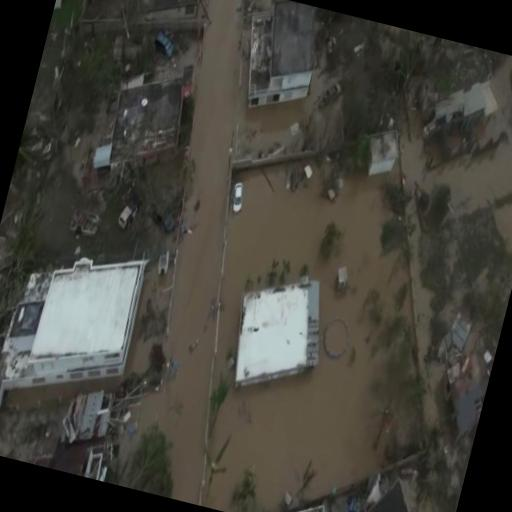flood: (126, 0, 415, 512), (399, 55, 512, 428), (402, 486, 435, 512)
house: (0, 233, 151, 412), (219, 262, 337, 406), (228, 0, 329, 121), (104, 63, 194, 176), (130, 0, 205, 33), (51, 0, 82, 20)
